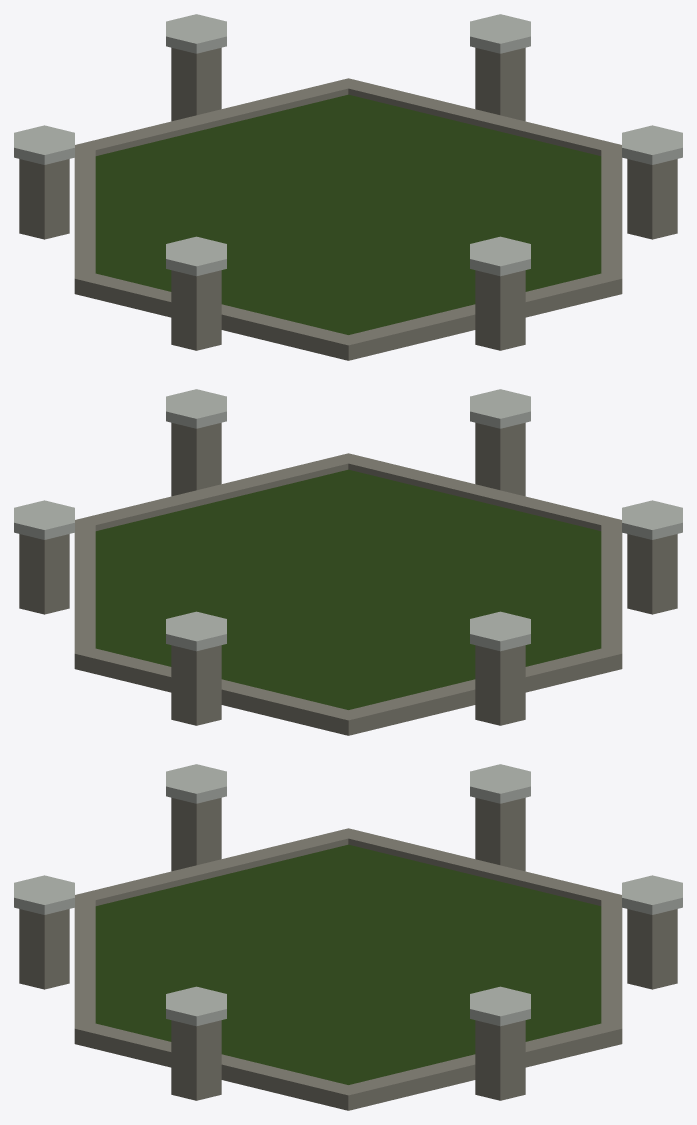
The model's file is square2.glb.
3 renders of one model, top to bottom at view 1: azimuth 30°, elevation 25°; view 2: azimuth 150°, elevation 25°; view 3: azimuth 270°, elevation 25°, orthographic.
Visible parts, largest first — view 1: square2; view 2: square2; view 3: square2.
Part boxes in pixels (<box>): square2: <box>14,14,682,360</box>; square2: <box>14,389,682,735</box>; square2: <box>14,764,682,1110</box>.
Size of the model in its own units: 52 by 7.9 by 55.02.
